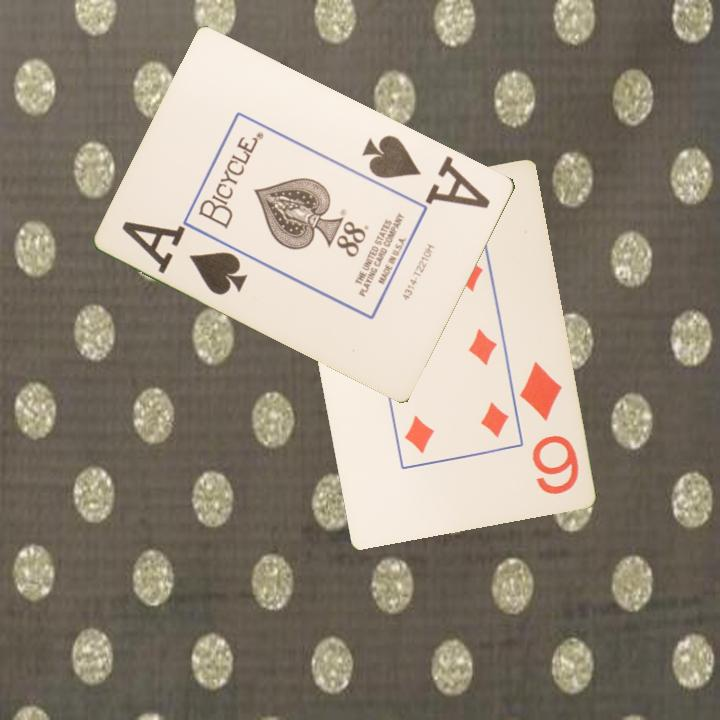6d: (515, 358, 581, 497)
As: (119, 217, 251, 299), (359, 131, 481, 203)
